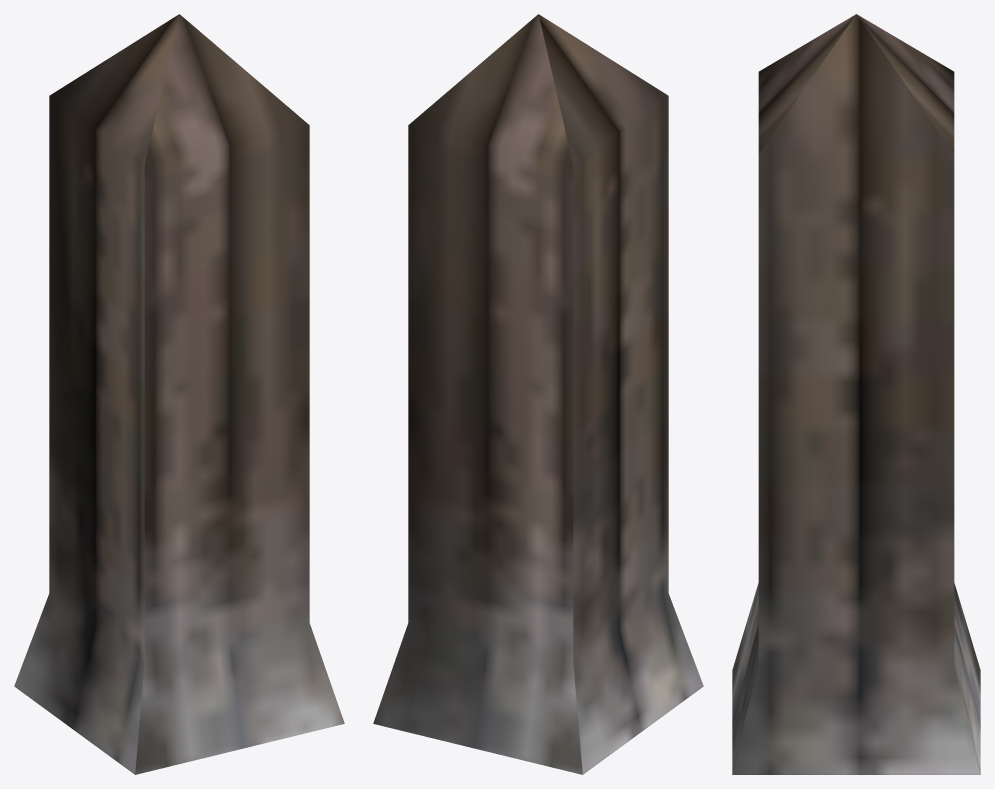
Rendered from stst69.dae.
3 renders of one model, left to right at view 1: azimuth 30°, elevation 25°; view 2: azimuth 150°, elevation 25°; view 3: azimuth 270°, elevation 25°, orthographic. The views are drawn at different scales.
Visible parts, largest first — view 1: col; view 2: col; view 3: col.
Part boxes in pixels (<box>): col: <box>14,14,344,774</box>; col: <box>373,14,703,774</box>; col: <box>732,14,980,774</box>.
Size of the model in its own units: 0.4535 by 0.4535 by 1.43.
Materials: 1 (1 with a texture image).
